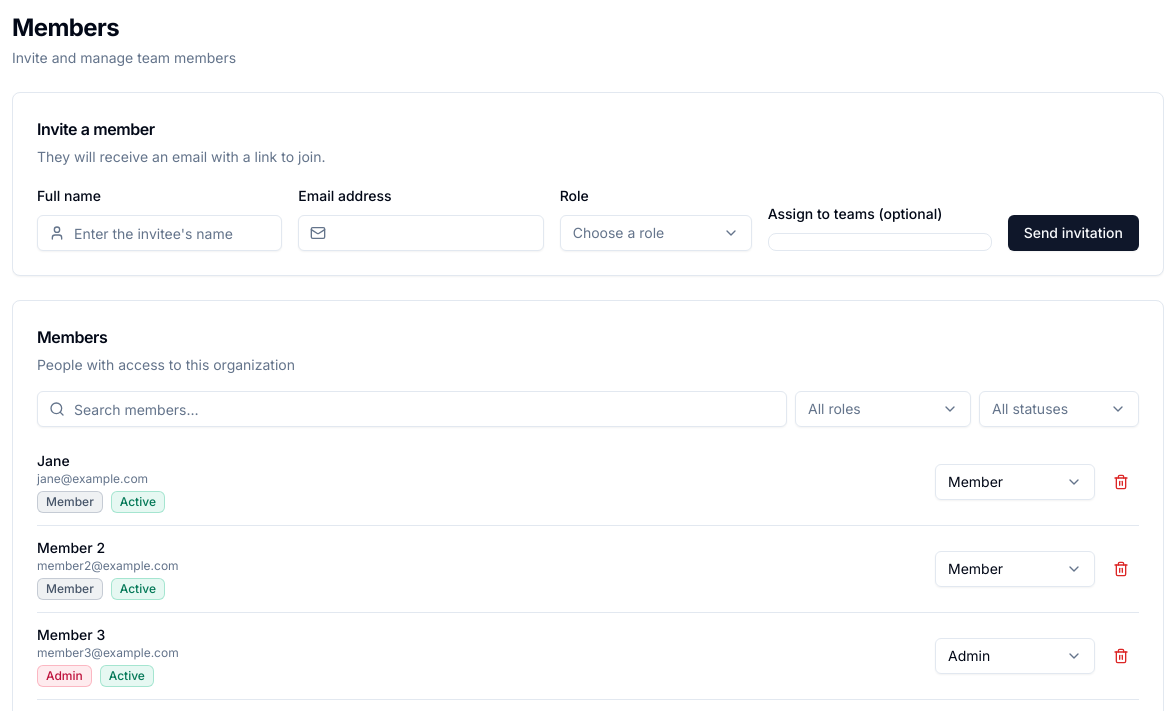
Test case: MembersSettingsPage — pagination + filters › filters members by search text
The width and height of the screenshot is (1164, 711).
Check: the text "jane@example.com" is shown, box [37,471,165,487]
Type "member3" into the field labelled "Search members…".
click(412, 409); type("member3")  # box [37,391,787,427]
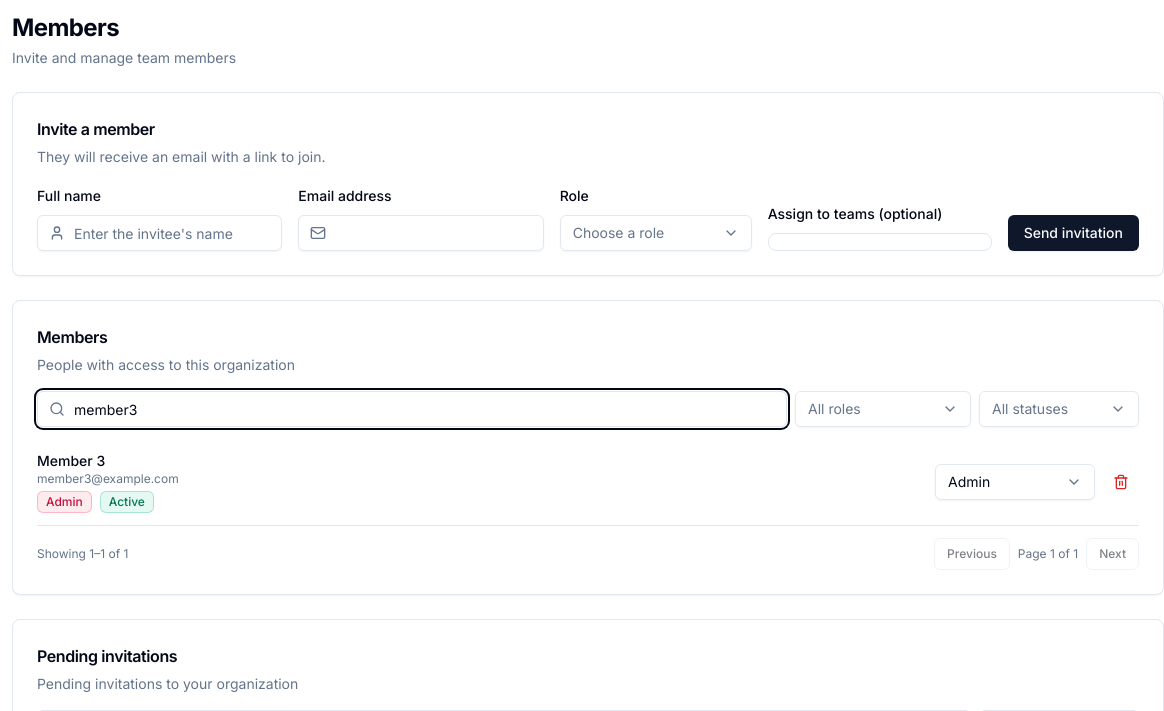
Check: the text "member3@example.com" is shown, box [37,471,179,487]
Check: the text "jane@example.com" is gone
